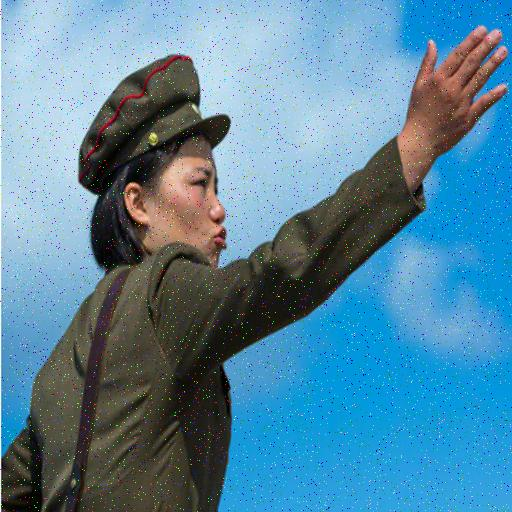north army: (0, 49, 468, 488)
